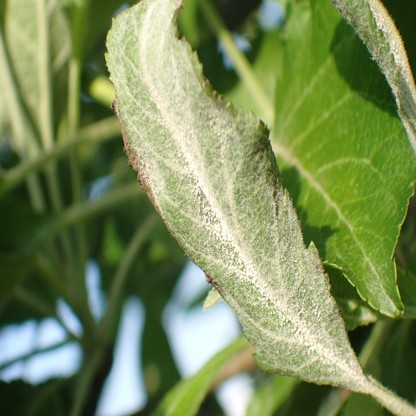powder: (105, 1, 366, 393), (332, 0, 416, 154), (353, 257, 396, 315)
